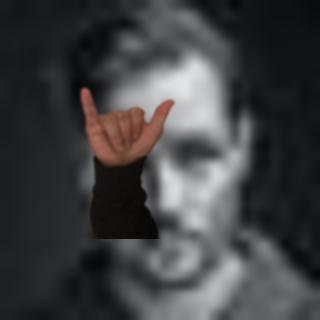HAVE: (65, 86, 182, 168)
